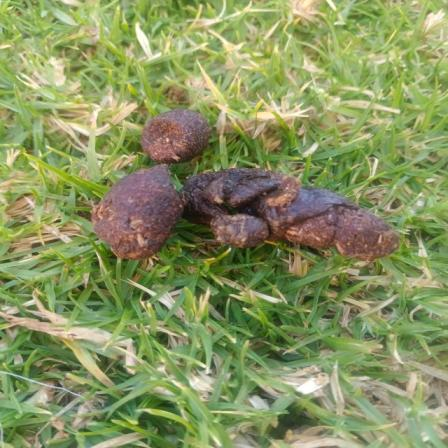dog-poop: (85, 92, 408, 278)
